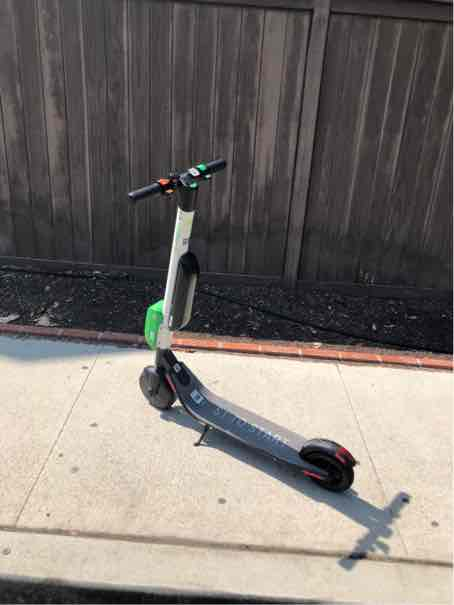scooter: (123, 152, 354, 502)
